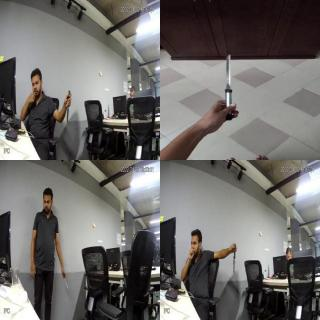knife: (218, 55, 240, 96), (230, 252, 239, 274), (62, 271, 70, 291), (65, 101, 71, 123)
